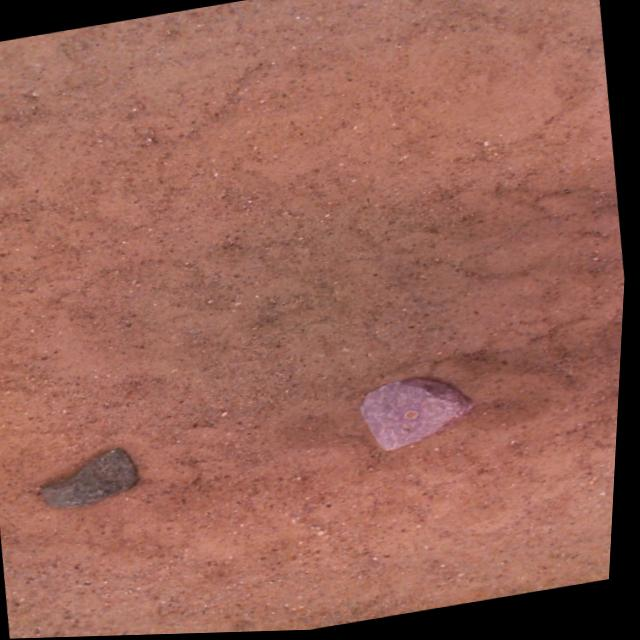rock: (364, 382, 476, 453), (46, 451, 141, 510)
